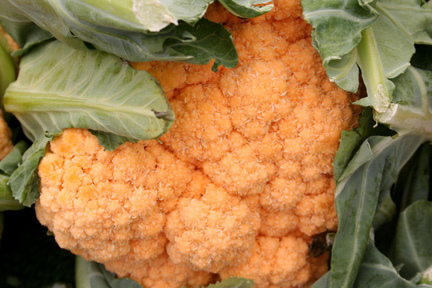cauliflower: (35, 0, 360, 287)
